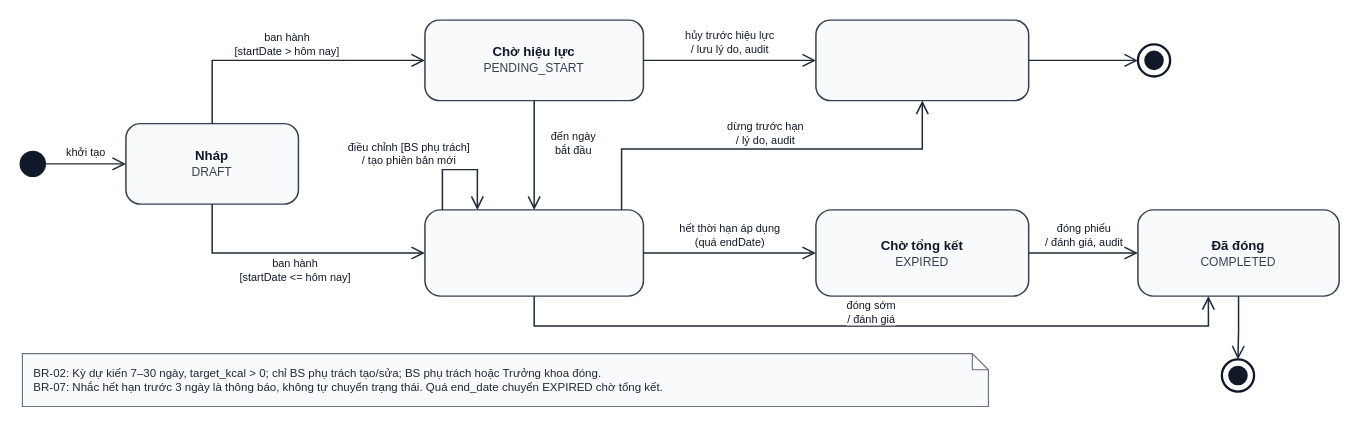
This 1360x428 diagram has some shape labels left out. The box of each missing label's shape, as (x1, y1, x2, y2) in pixels:
Đang áp dụng ACTIVE: (424, 209, 644, 296)
Đã hủy CANCELLED: (815, 19, 1029, 101)
